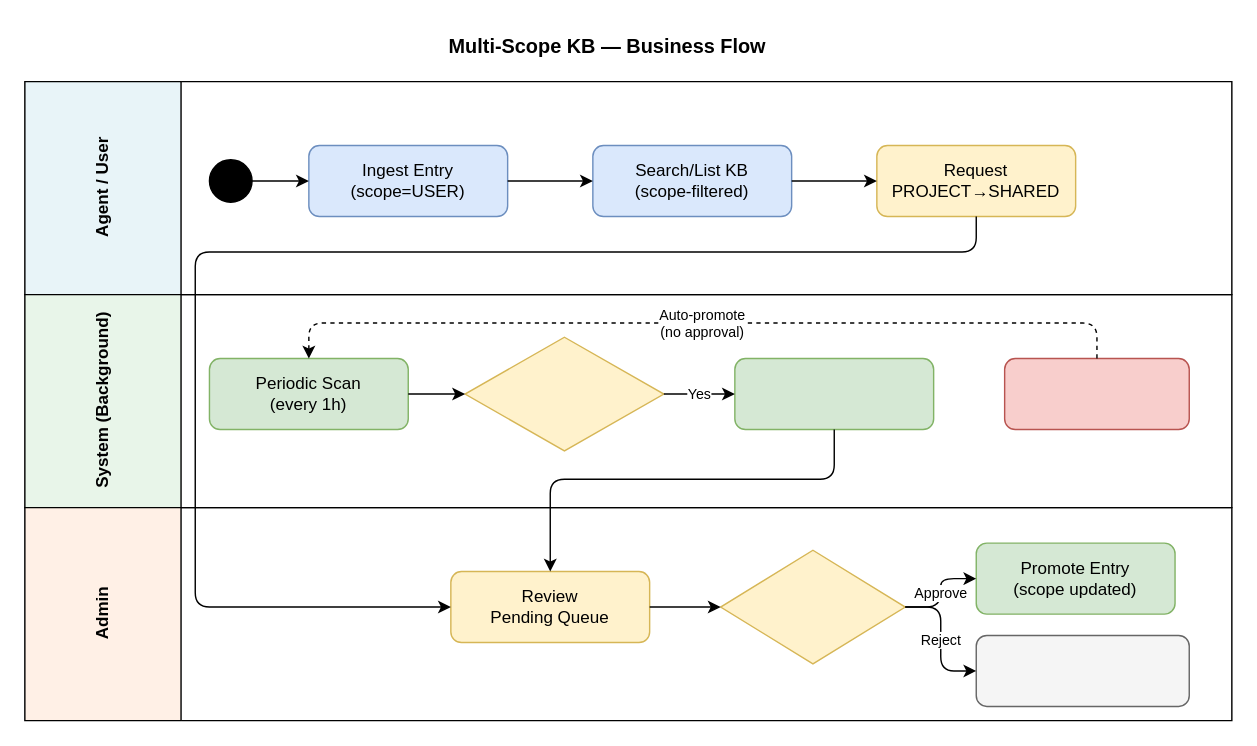
The diagram is 1257 pixels wide and 746 high, and some of its shapes have lost their labels. Each missing label, with the box of its shape:
Approve / Reject?: (719, 549, 905, 664)
Evaluate Criteria (≥2/4 met?): (464, 336, 664, 451)
Keep Current Scope (no cooldown): (975, 634, 1189, 706)
Merge/Release Trigger: (1003, 357, 1189, 430)
Queue to Promotion Table: (733, 357, 934, 430)
